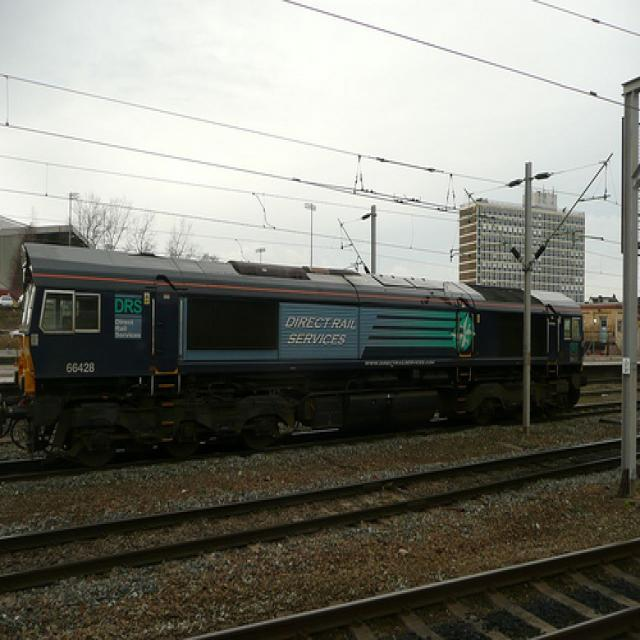locomotive: (3, 228, 598, 481)
